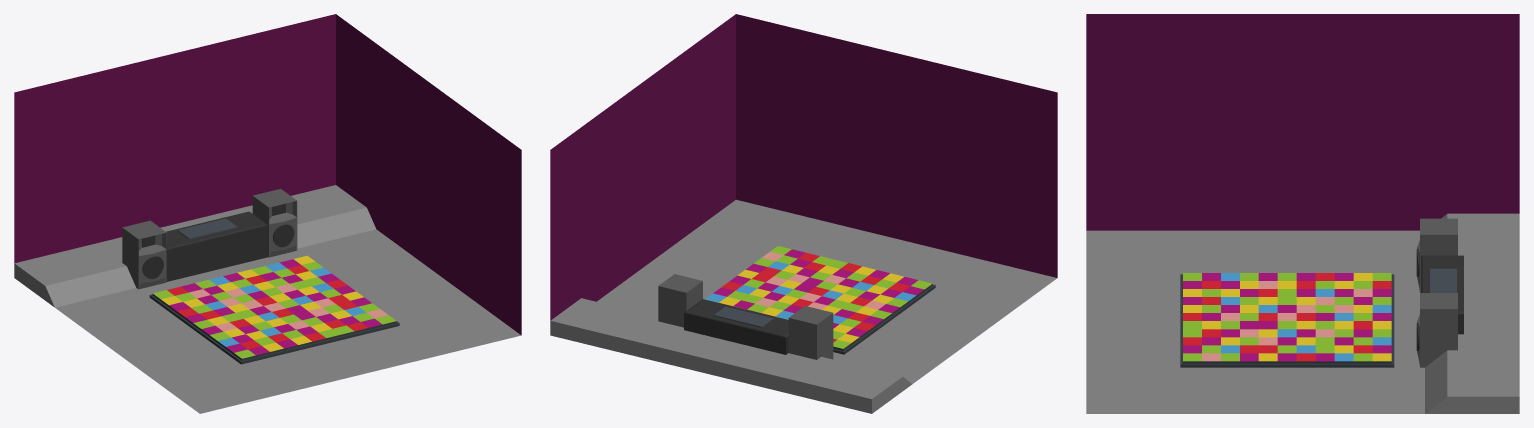
The model's file is discoClub.fbx.
The picture shows the model from 3 angles, left to right: view 1: azimuth 30°, elevation 25°; view 2: azimuth 150°, elevation 25°; view 3: azimuth 270°, elevation 25°; orthographic projection. The views are drawn at different scales.
Visible parts, largest first — view 1: Room, DiscoFloor, Dj Table, Speaker.001, Speaker, DJ thingy; view 2: Room, DiscoFloor, Dj Table, Speaker.001, Speaker, DJ thingy; view 3: Room, DiscoFloor, Speaker, Speaker.001, Dj Table, DJ thingy.
Part boxes in pixels (x1,y1,x2,y2): Room: (14, 14, 521, 413); DiscoFloor: (149, 255, 399, 364); Dj Table: (166, 211, 268, 281); Speaker.001: (122, 220, 166, 289); Speaker: (252, 189, 297, 257); DJ thingy: (177, 218, 237, 239); Room: (550, 14, 1057, 413); DiscoFloor: (705, 246, 935, 354); Dj Table: (684, 299, 788, 354); Speaker.001: (788, 306, 833, 359); Speaker: (658, 274, 702, 327); DJ thingy: (713, 306, 773, 327); Room: (1086, 14, 1519, 413); DiscoFloor: (1180, 273, 1394, 367); Speaker: (1416, 293, 1457, 367); Speaker.001: (1416, 218, 1457, 292); Dj Table: (1421, 255, 1463, 334); DJ thingy: (1430, 268, 1456, 292).
Bounding box in the file's own units: 632 × 357 × 632.
